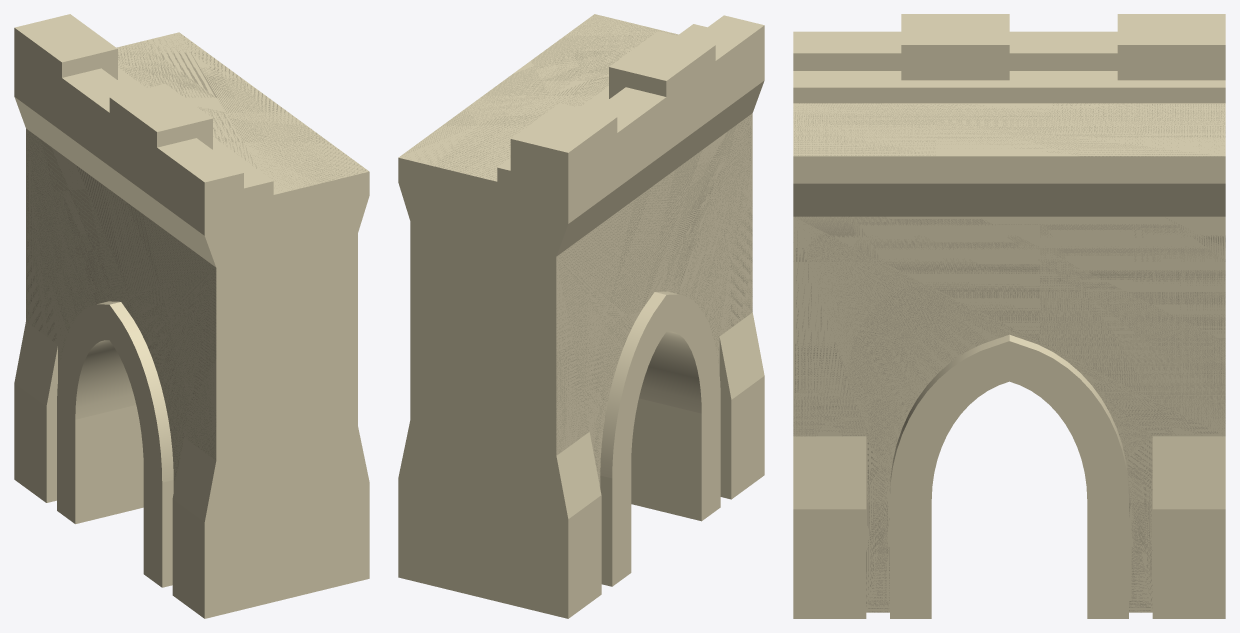
The model's file is wallDoor.obj.
3 renders of one model, left to right at view 1: azimuth 30°, elevation 25°; view 2: azimuth 150°, elevation 25°; view 3: azimuth 270°, elevation 25°, orthographic. The views are drawn at different scales.
Visible parts, largest first — view 1: wallDoor; view 2: wallDoor; view 3: wallDoor.
Part boxes in pixels (<box>): wallDoor: <box>14,14,369,618</box>; wallDoor: <box>398,14,764,618</box>; wallDoor: <box>793,14,1225,618</box>.
Size of the model in its own units: 5 by 13.1 by 10.
